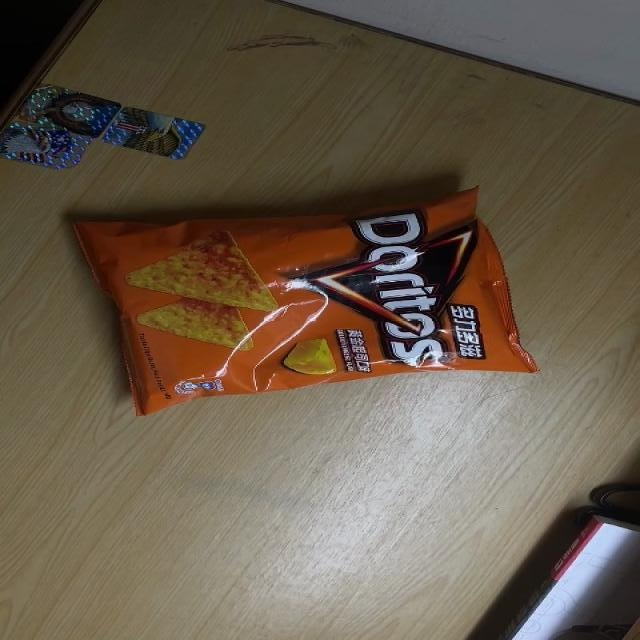Doritos: (70, 186, 540, 418)
